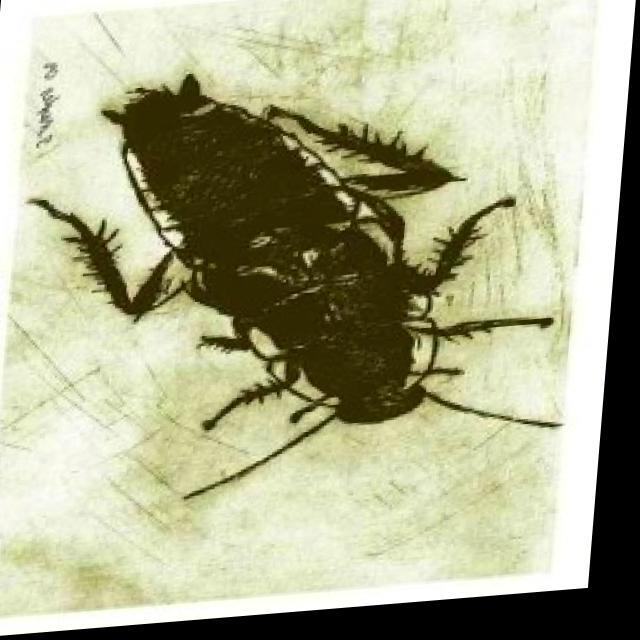cockroach: (26, 67, 564, 502)
